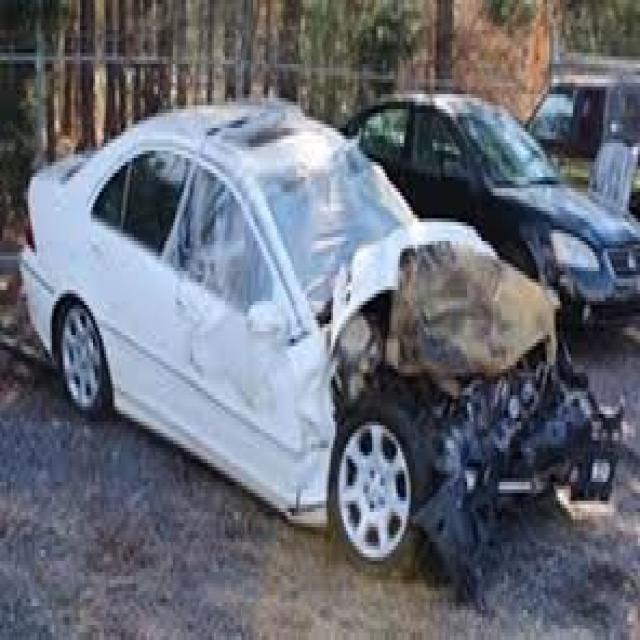severe: (175, 72, 640, 632)
